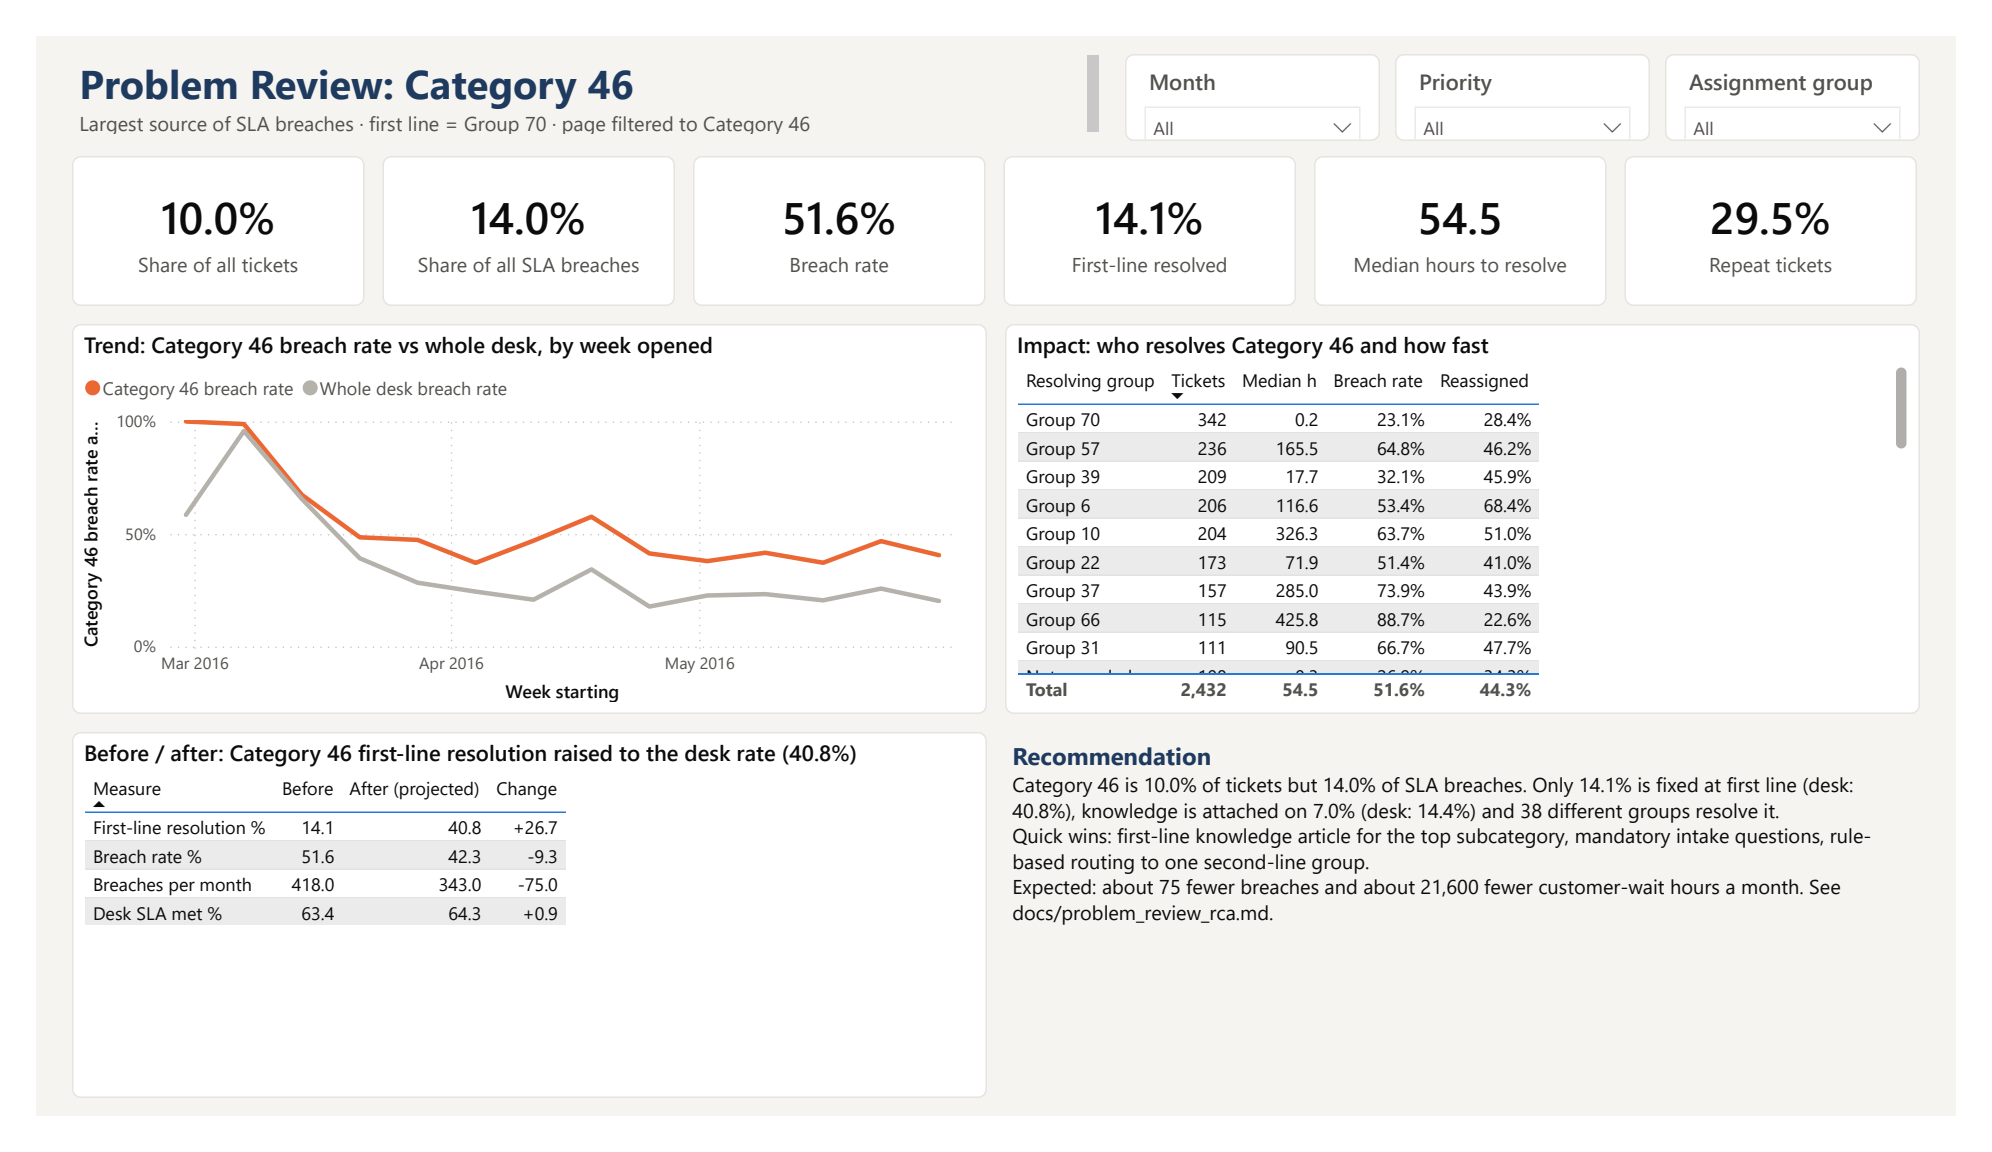

This screenshot's page, from the dashboard's own definition file:
{"tool":"powerbi","page":{"name":"Problem Review","canvas":[1280,720],"ordinal":3},"visuals":[{"type":"textbox","box":[24,8,690,62],"z":1000},{"type":"slicer","fields":{"Values":["Date.month_name"]},"box":[726,12,170,58],"z":2000},{"type":"slicer","fields":{"Values":["Priority.priority_short"]},"box":[906,12,170,58],"z":3000},{"type":"slicer","fields":{"Values":["Assignment Group.assignment_group"]},"box":[1086,12,170,58],"z":4000},{"type":"card","fields":{"Values":["Metrics.Ticket Share"]},"box":[24,80,195,100],"z":5000},{"type":"card","fields":{"Values":["Metrics.Breach Share"]},"box":[231,80,195,100],"z":6000},{"type":"card","fields":{"Values":["Metrics.Breach Rate"]},"box":[438,80,195,100],"z":7000},{"type":"card","fields":{"Values":["Metrics.First-line Resolution %"]},"box":[645,80,195,100],"z":8000},{"type":"card","fields":{"Values":["Metrics.Median Resolution (h)"]},"box":[852,80,195,100],"z":9000},{"type":"card","fields":{"Values":["Metrics.Repeat Rate"]},"box":[1059,80,195,100],"z":10000},{"type":"lineChart","title":"Trend: Category 46 breach rate vs whole desk, by week opened","fields":{"Category":["Date.week_start"],"Y":["Metrics.Breach Rate","Metrics.Desk Breach Rate"]},"box":[24,192,610,260],"z":11000},{"type":"tableEx","title":"Impact: who resolves Category 46 and how fast","fields":{"Values":["Assignment Group.assignment_group","Metrics.Tickets","Metrics.Median Resolution (h)","Metrics.Breach Rate","Metrics.Reassignment Rate"]},"box":[646,192,610,260],"z":12000},{"type":"tableEx","title":"Before / after: Category 46 first-line resolution raised to the desk rate (40.8%)","fields":{"Values":["Projection.metric","Projection.before","Projection.after","Metrics.Change"]},"box":[24,464,610,244],"z":13000},{"type":"textbox","box":[646,464,610,244],"z":14000}]}

Visuals, with their boxes in screenshot pixels (x1, y1, x2, y2), scaled from the page's 1280x720 canvas onto the 1992x1152 screenshot:
textbox: x1=37, y1=13, x2=1111, y2=112
slicer - Date.month_name: x1=1130, y1=19, x2=1394, y2=112
slicer - Priority.priority_short: x1=1410, y1=19, x2=1675, y2=112
slicer - Assignment Group.assignment_group: x1=1690, y1=19, x2=1955, y2=112
card - Metrics.Ticket Share: x1=37, y1=128, x2=341, y2=288
card - Metrics.Breach Share: x1=359, y1=128, x2=663, y2=288
card - Metrics.Breach Rate: x1=682, y1=128, x2=985, y2=288
card - Metrics.First-line Resolution %: x1=1004, y1=128, x2=1307, y2=288
card - Metrics.Median Resolution (h): x1=1326, y1=128, x2=1629, y2=288
card - Metrics.Repeat Rate: x1=1648, y1=128, x2=1952, y2=288
"Trend: Category 46 breach rate vs whole desk, by week opened" lineChart: x1=37, y1=307, x2=987, y2=723
"Impact: who resolves Category 46 and how fast" tableEx: x1=1005, y1=307, x2=1955, y2=723
"Before / after: Category 46 first-line resolution raised to the desk rate (40.8%)" tableEx: x1=37, y1=742, x2=987, y2=1133
textbox: x1=1005, y1=742, x2=1955, y2=1133
